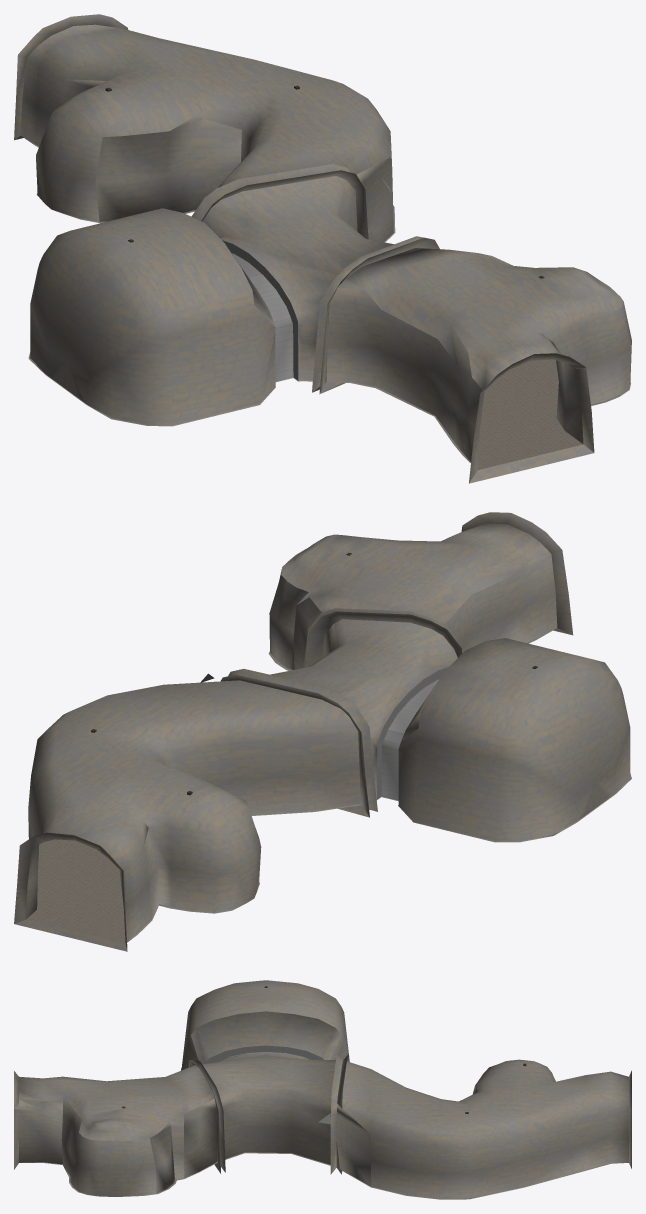
Rendered from R_Tun1.glb.
3 views of the same model, one above another, from view 1: azimuth 30°, elevation 25°; view 2: azimuth 150°, elevation 25°; view 3: azimuth 270°, elevation 25° (orthographic). The views are drawn at different scales.
Visible parts, largest first — view 1: _R_Tun1; view 2: _R_Tun1; view 3: _R_Tun1.
Boxes of the visible parts, bbox=[...] form: _R_Tun1: bbox=[14, 14, 631, 483]; _R_Tun1: bbox=[14, 512, 631, 951]; _R_Tun1: bbox=[14, 980, 631, 1199].
Size of the model in its own units: 16.88 by 5.2 by 30.4.
Materials: 5 (5 with a texture image).
